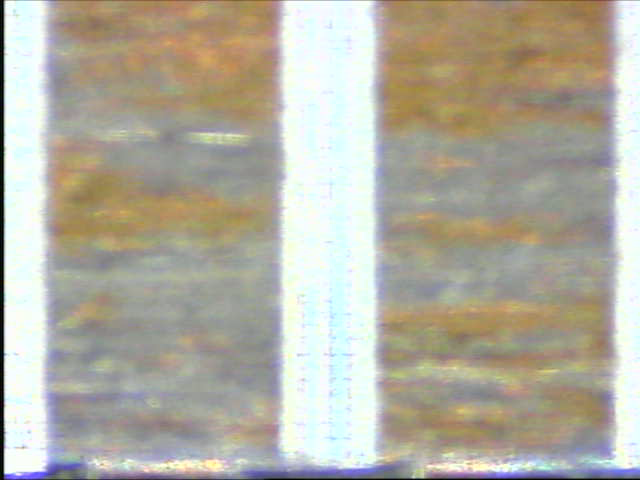line: (276, 1, 382, 468)
